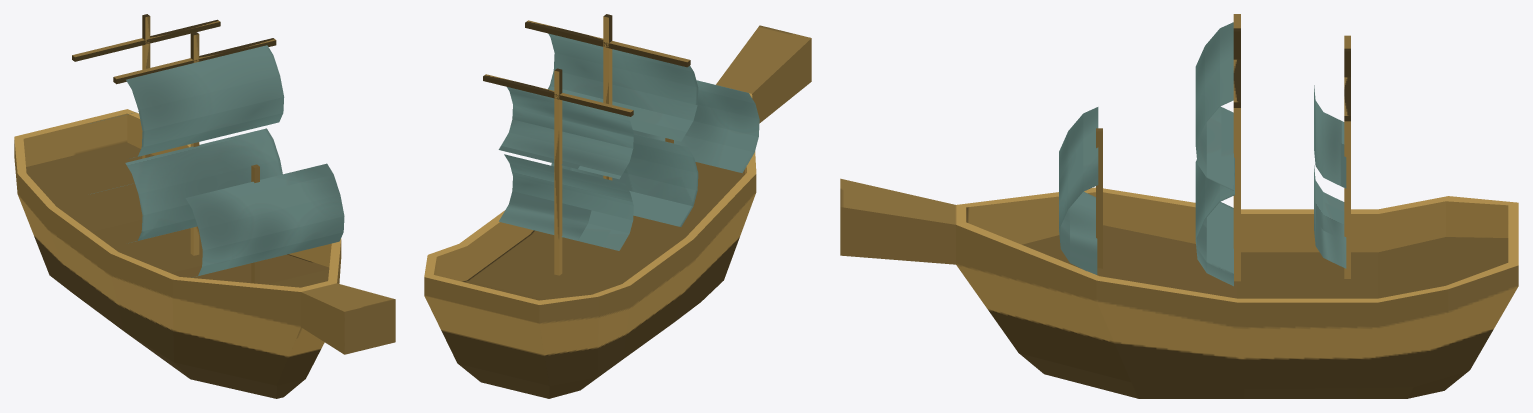
File: ship.glb
3 renders of one model, left to right at view 1: azimuth 30°, elevation 25°; view 2: azimuth 150°, elevation 25°; view 3: azimuth 270°, elevation 25°, orthographic. The views are drawn at different scales.
Parts seen in each view (by area): view 1: Plane, Cube.005, Cube, Cube.001, Cube.003; view 2: Plane, Cube.005, Cube.006, Cube.001, Cube; view 3: Plane, Cube.005, Cube.006, Cube, Cube.001, Cube.003.
Boxes of the visible parts, box(x1,y1,x2,y2) form: Plane: box(14, 109, 395, 398); Cube.005: box(125, 45, 344, 277); Cube: box(113, 31, 276, 255); Cube.001: box(72, 14, 220, 215); Cube.003: box(251, 164, 259, 283); Plane: box(424, 25, 811, 398); Cube.005: box(548, 33, 759, 226); Cube.006: box(498, 87, 633, 250); Cube.001: box(483, 68, 633, 275); Cube: box(525, 14, 690, 180); Plane: box(840, 178, 1518, 398); Cube.005: box(1059, 22, 1234, 286); Cube.006: box(1314, 85, 1346, 268); Cube: box(1233, 14, 1240, 281); Cube.001: box(1344, 35, 1350, 278); Cube.003: box(1096, 128, 1102, 268).
Size of the model in its own units: 8 by 13.7 by 24.6.
